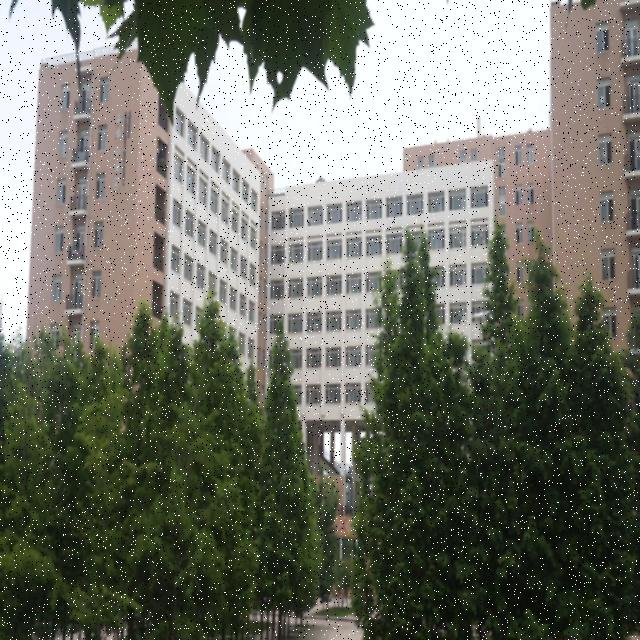UAV: (470, 310, 490, 326)
